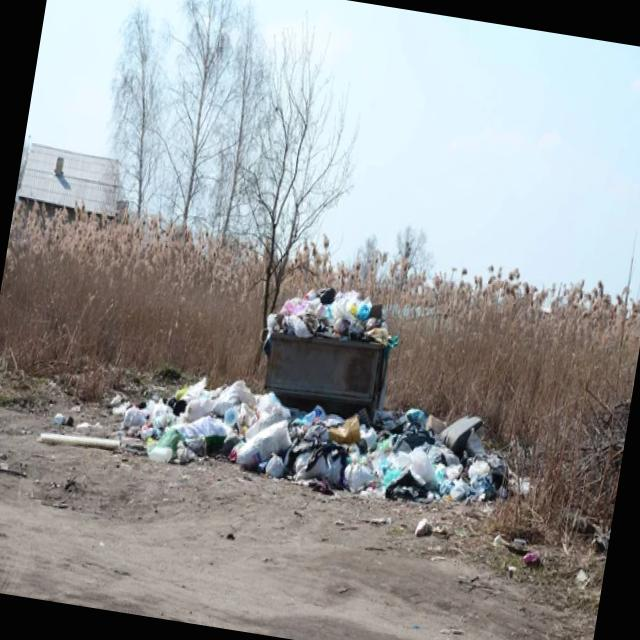garbage: (152, 350, 543, 580)
